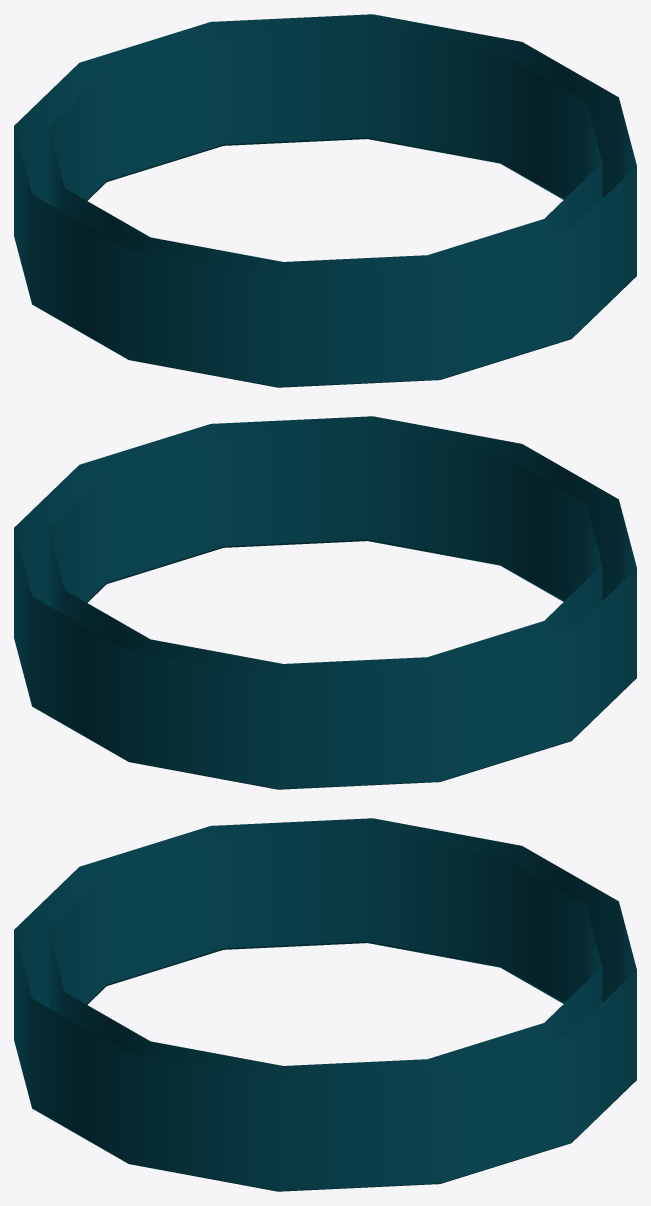
Rendered from AnilloVentiladorPeque.fbx.
3 views of the same model, one above another, from view 1: azimuth 30°, elevation 25°; view 2: azimuth 150°, elevation 25°; view 3: azimuth 270°, elevation 25° (orthographic).
Visible parts, largest first — view 1: Cone; view 2: Cone; view 3: Cone.
Part boxes in pixels (x1,y1,x2,y2): Cone: [14, 14, 636, 387]; Cone: [14, 416, 636, 789]; Cone: [14, 818, 636, 1191].
Bounding box in the file's own units: 122 × 24.08 × 122.
